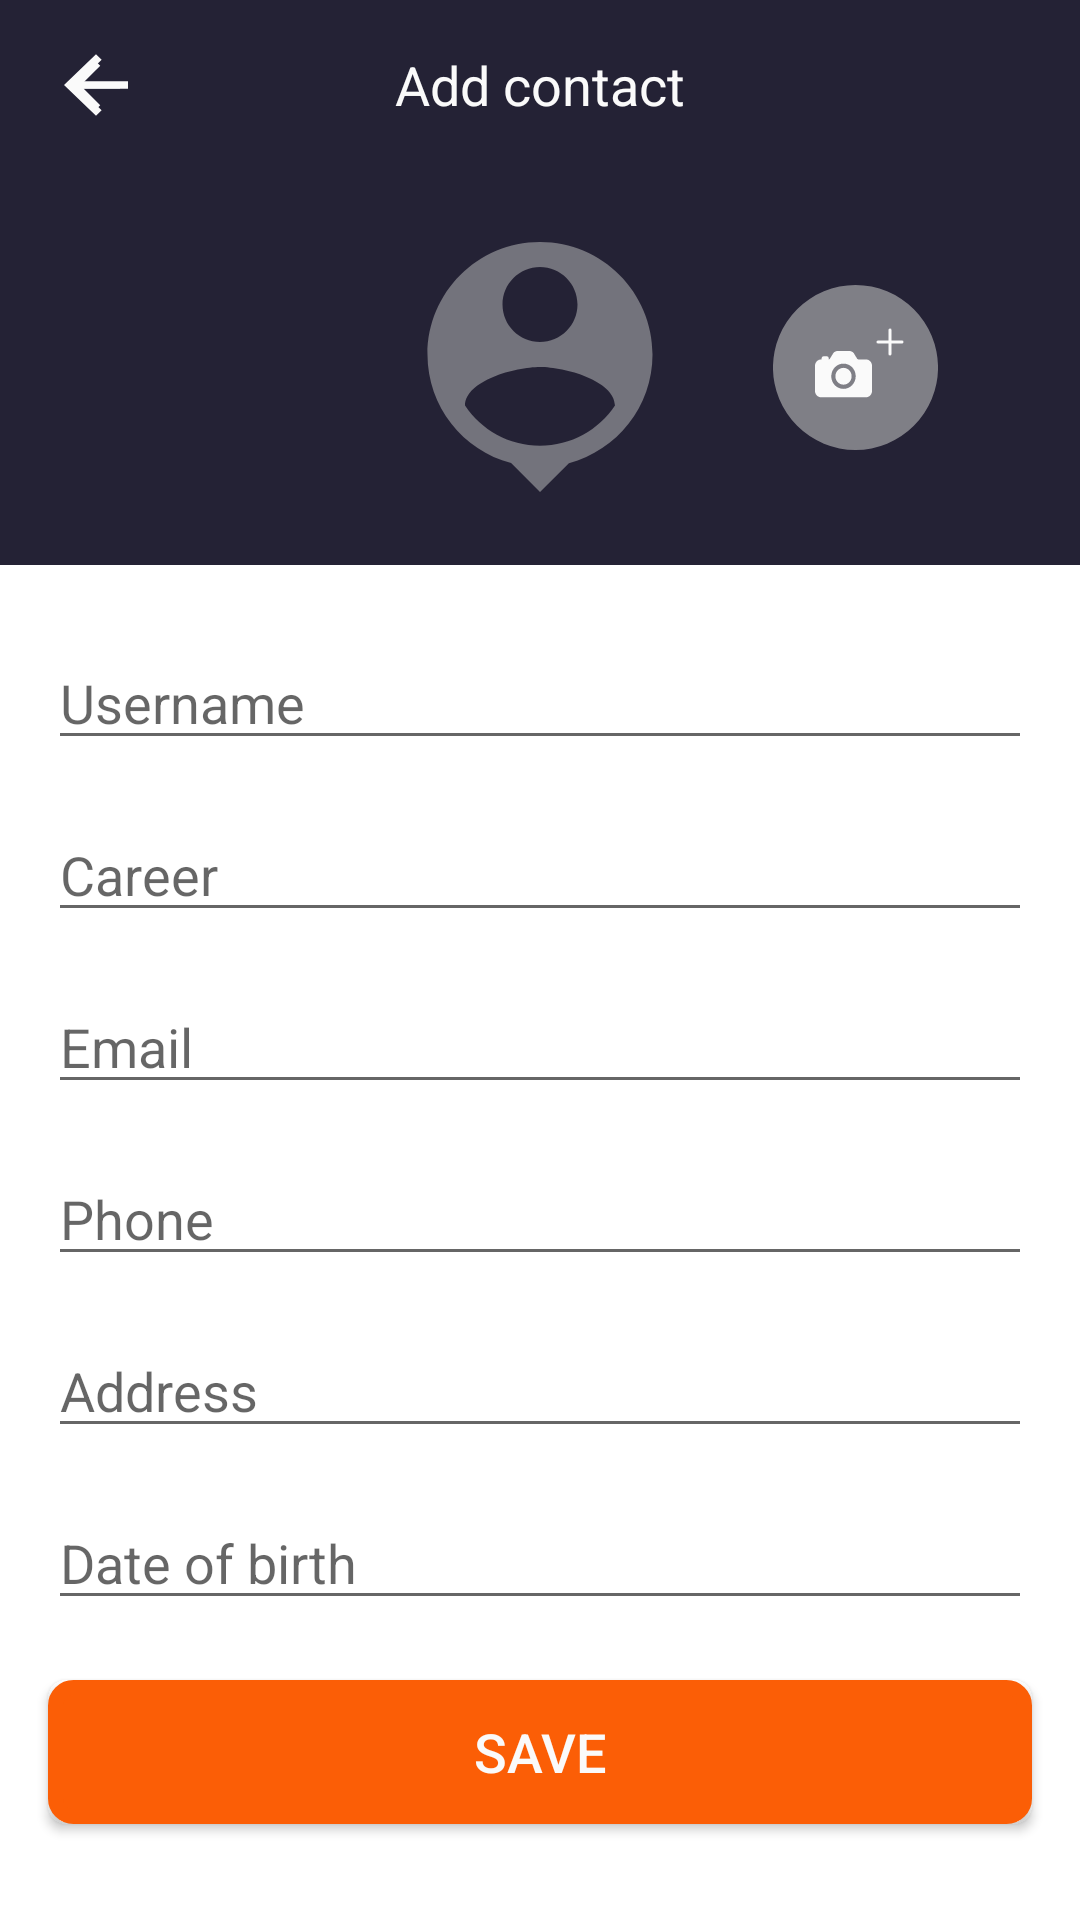

Icons on this 1080*1920 Android screen, each with its box as bbox=(x1, y1, x2, y2):
arrow left: bbox=(64, 54, 128, 116)
personal photo: bbox=(427, 242, 653, 492)
photo camera: bbox=(773, 285, 938, 450)
